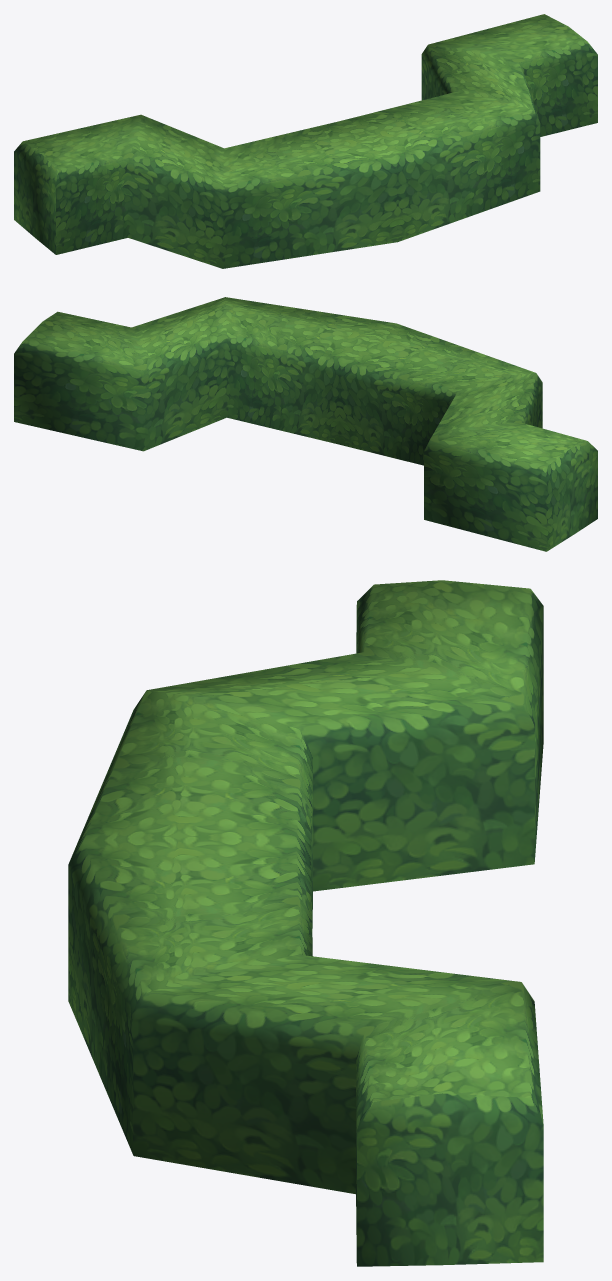
Rendered from Map_06_botany01.FBX.
The picture shows the model from 3 angles, top to bottom: view 1: azimuth 30°, elevation 25°; view 2: azimuth 150°, elevation 25°; view 3: azimuth 270°, elevation 25°; orthographic projection. The views are drawn at different scales.
Visible parts, largest first — view 1: Map_06_botany01; view 2: Map_06_botany01; view 3: Map_06_botany01.
Boxes of the visible parts, x1=… form: Map_06_botany01: x1=14, y1=14, x2=597, y2=268; Map_06_botany01: x1=14, y1=297, x2=597, y2=551; Map_06_botany01: x1=68, y1=580, x2=543, y2=1266.
Size of the model in its own units: 1011 by 384 by 148.
